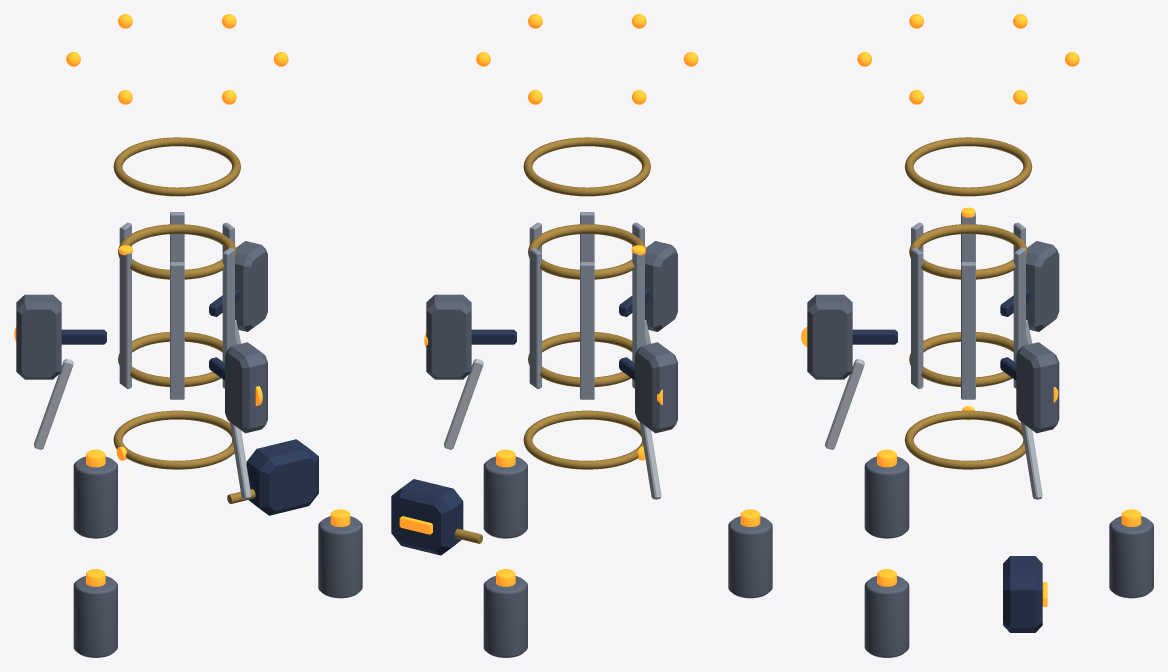
Rendered from tower_overclock_potency_s9.glb.
3 renders of one model, left to right at view 1: azimuth 30°, elevation 25°; view 2: azimuth 150°, elevation 25°; view 3: azimuth 270°, elevation 25°, orthographic.
Parts seen in each view (by area): view 1: overclock_trap_coupler, overclock_aura_emitter0, overclock_aura_emitter2, overclock_cap1, overclock_cap2, overclock_cap0, overclock_aura_emitter1, overclock_conductor_b2.36, overclock_conductor_b1.14, overclock_conductor1.98, overclock_vane5, overclock_vane0 (+6 smaller); view 2: overclock_trap_coupler, overclock_aura_emitter1, overclock_aura_emitter0, overclock_cap1, overclock_cap2, overclock_cap0, overclock_aura_emitter2, overclock_conductor_b2.36, overclock_conductor_b1.14, overclock_conductor1.98, overclock_vane1, overclock_vane2 (+6 smaller); view 3: overclock_aura_emitter2, overclock_aura_emitter1, overclock_cap2, overclock_cap1, overclock_cap0, overclock_trap_coupler, overclock_aura_emitter0, overclock_conductor_b2.36, overclock_conductor_b1.14, overclock_conductor1.98, overclock_vane3, overclock_vane4 (+6 smaller).
Part boxes in pixels (left/top/right/bottom): overclock_trap_coupler: left=246, top=439, right=318, bottom=515; overclock_aura_emitter0: left=16, top=294, right=61, bottom=379; overclock_aura_emitter2: left=225, top=342, right=267, bottom=433; overclock_cap1: left=318, top=516, right=362, bottom=598; overclock_cap2: left=73, top=576, right=117, bottom=657; overclock_cap0: left=73, top=456, right=117, bottom=538; overclock_aura_emitter1: left=235, top=241, right=267, bottom=331; overclock_conductor_b2.36: left=113, top=137, right=240, bottom=196; overclock_conductor_b1.14: left=113, top=410, right=234, bottom=469; overclock_conductor1.98: left=118, top=224, right=236, bottom=279; overclock_vane5: left=170, top=262, right=184, bottom=399; overclock_vane0: left=119, top=252, right=131, bottom=388; overclock_trap_coupler: left=391, top=479, right=463, bottom=555; overclock_aura_emitter1: left=426, top=294, right=471, bottom=379; overclock_aura_emitter0: left=635, top=342, right=677, bottom=433; overclock_cap1: left=483, top=456, right=527, bottom=538; overclock_cap2: left=728, top=516, right=772, bottom=598; overclock_cap0: left=483, top=576, right=527, bottom=657; overclock_aura_emitter2: left=645, top=241, right=677, bottom=331; overclock_conductor_b2.36: left=523, top=137, right=650, bottom=196; overclock_conductor_b1.14: left=523, top=410, right=643, bottom=469; overclock_conductor1.98: left=528, top=224, right=646, bottom=279; overclock_vane1: left=580, top=262, right=594, bottom=399; overclock_vane2: left=529, top=247, right=541, bottom=388; overclock_aura_emitter2: left=807, top=294, right=852, bottom=379; overclock_aura_emitter1: left=1016, top=342, right=1059, bottom=433; overclock_cap2: left=864, top=456, right=909, bottom=538; overclock_cap1: left=864, top=576, right=909, bottom=657; overclock_cap0: left=1109, top=516, right=1153, bottom=598; overclock_trap_coupler: left=1003, top=556, right=1042, bottom=632; overclock_aura_emitter0: left=1026, top=241, right=1059, bottom=331; overclock_conductor_b2.36: left=904, top=137, right=1032, bottom=196; overclock_conductor_b1.14: left=904, top=410, right=1025, bottom=469; overclock_conductor1.98: left=909, top=224, right=1027, bottom=279; overclock_vane3: left=961, top=262, right=975, bottom=399; overclock_vane4: left=911, top=247, right=923, bottom=388.
Size of the model in its own units: 1.42 by 2.4 by 1.43.
